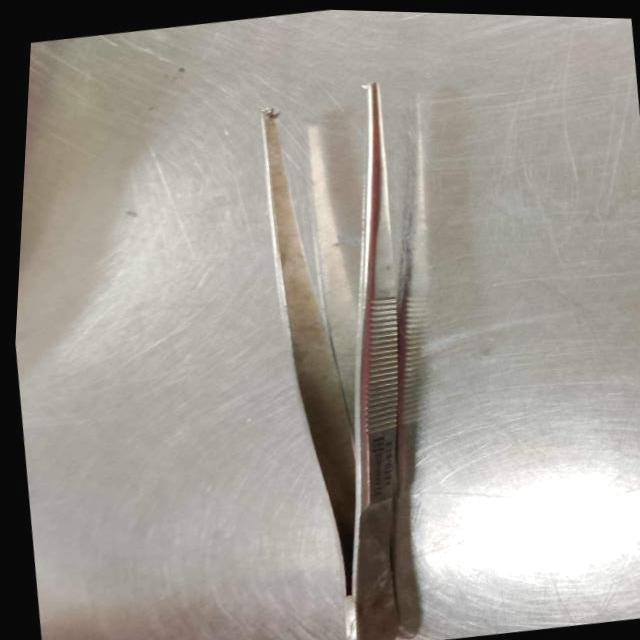General: (14, 10, 639, 640)
Sharps: (256, 79, 413, 640), (342, 80, 405, 640)
